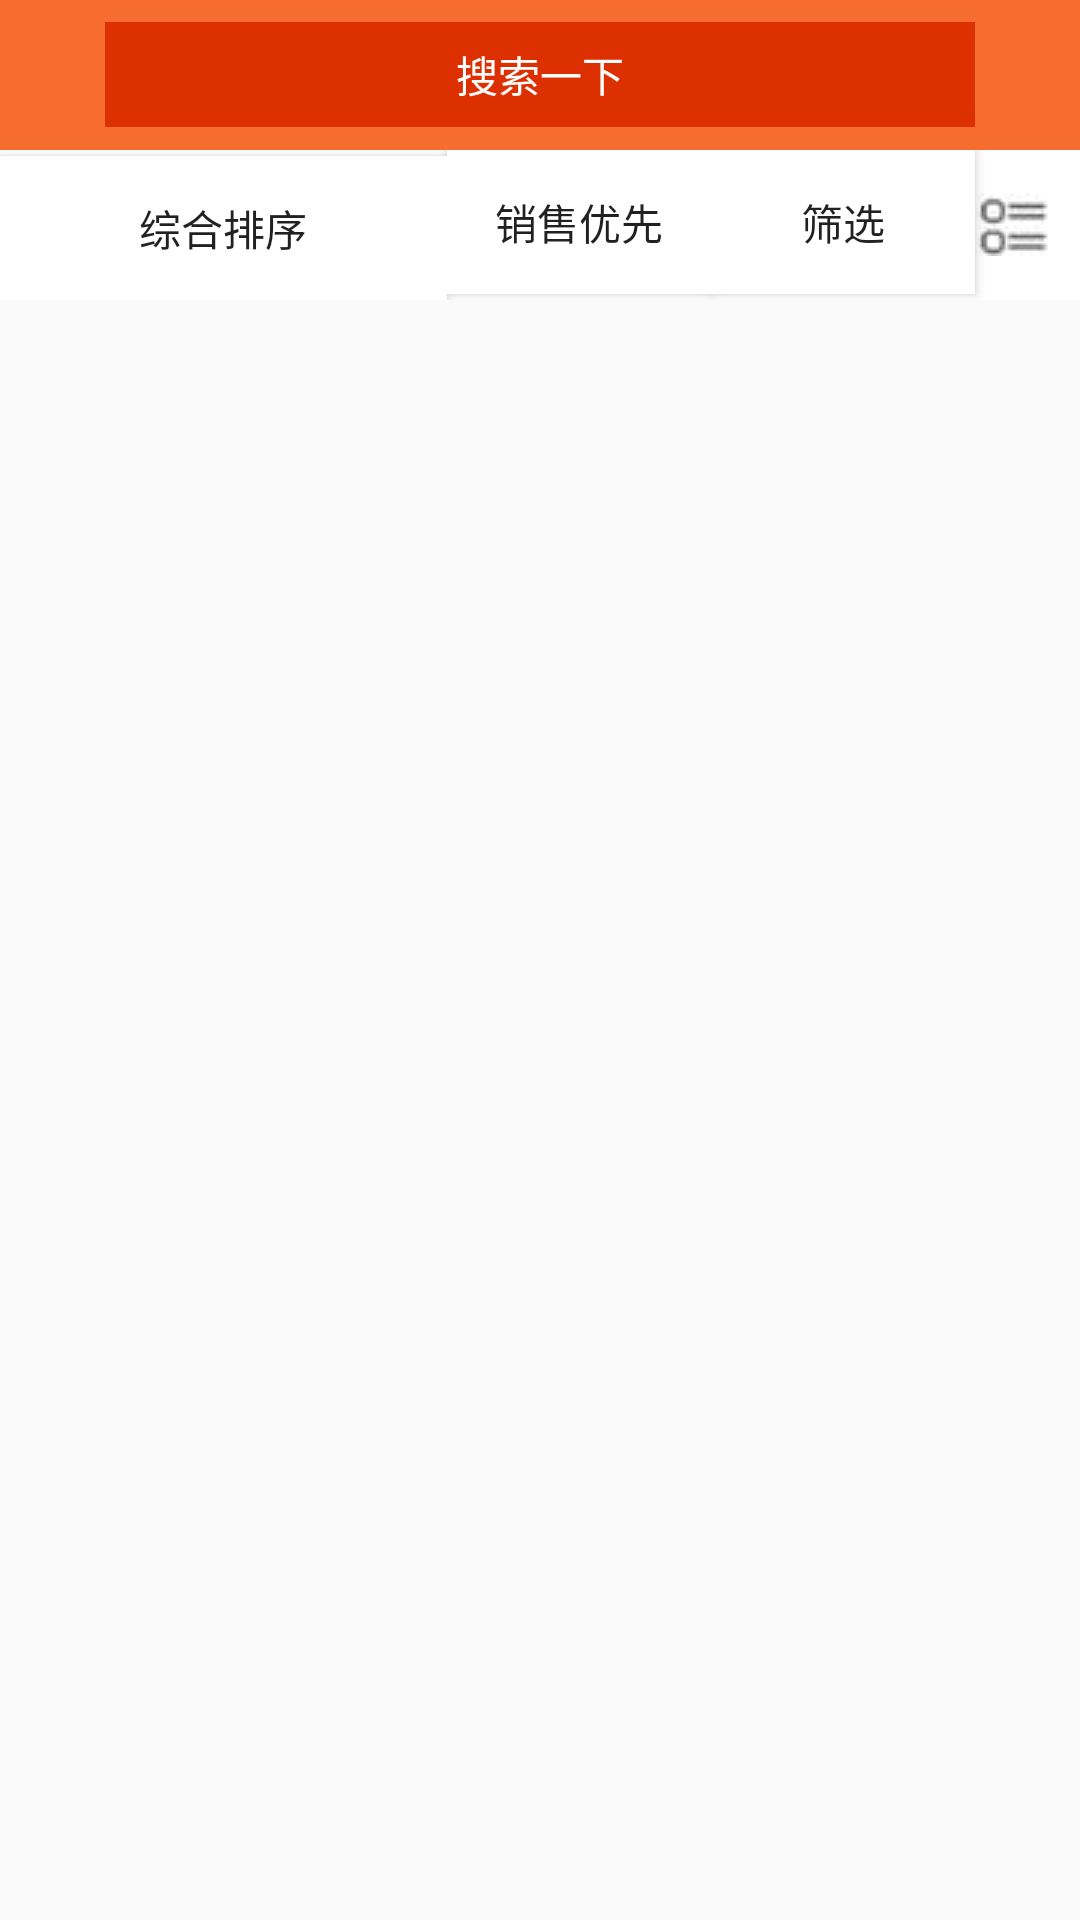

Screen size 1080w x 1920h. Icon name, then its box in pixels as (x1, y1, x2, y2):
listgrete: (978, 198, 1048, 256)
